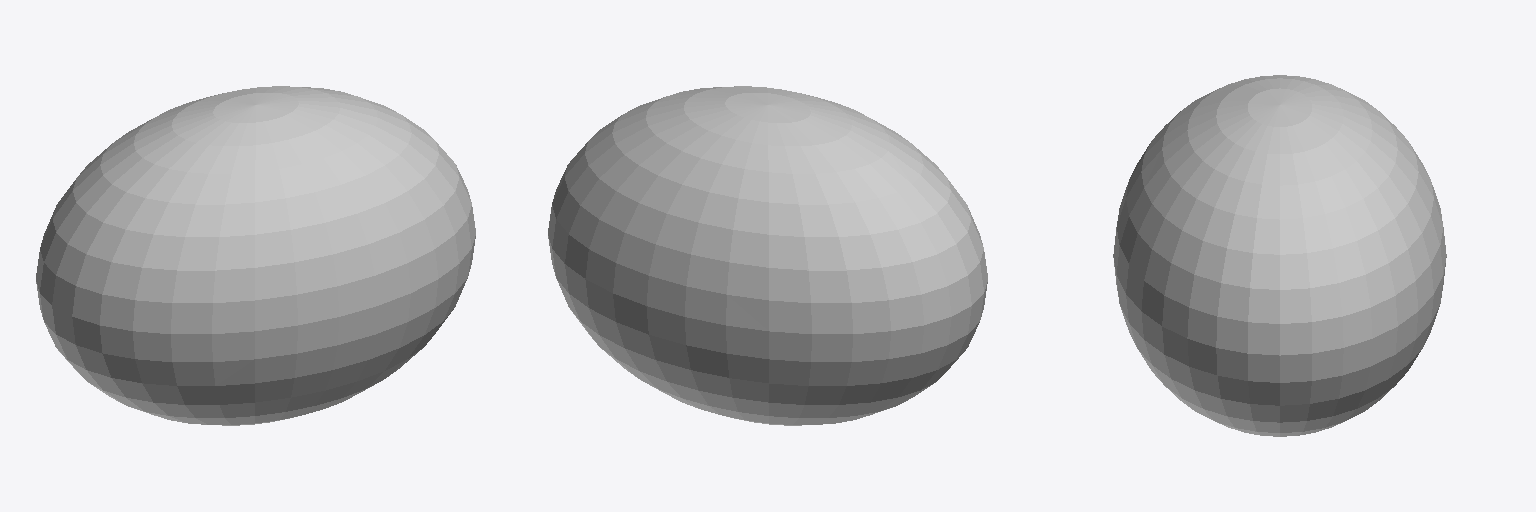
Rendered from nose.obj.
The picture shows the model from 3 angles: view 1: azimuth 30°, elevation 25°; view 2: azimuth 150°, elevation 25°; view 3: azimuth 270°, elevation 25°; orthographic projection.
Visible parts, largest first — view 1: nose; view 2: nose; view 3: nose.
Boxes of the visible parts, x1=… form: nose: x1=36, y1=86, x2=475, y2=425; nose: x1=548, y1=86, x2=987, y2=425; nose: x1=1113, y1=75, x2=1446, y2=436.
Size of the model in its own units: 0.0993 by 0.0703 by 0.0703.